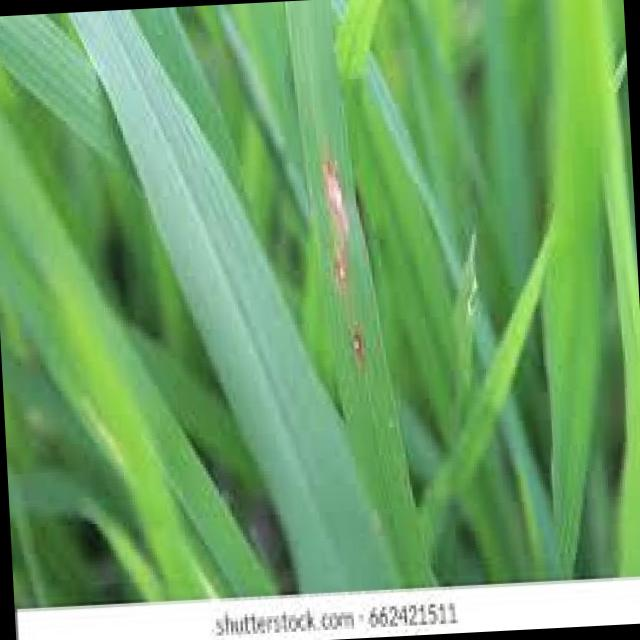Rice_Blast: (314, 134, 354, 282), (340, 300, 372, 370)
